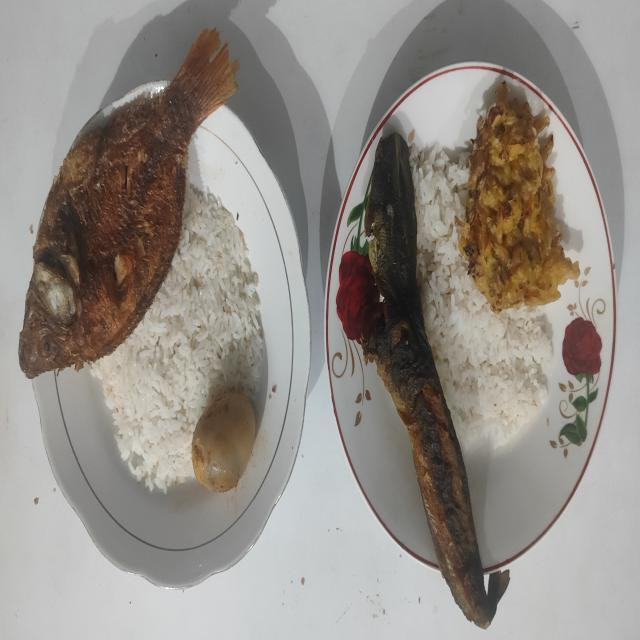ikan_mujair: (20, 29, 238, 378)
nasi_putih: (90, 185, 264, 490), (411, 144, 554, 448)
